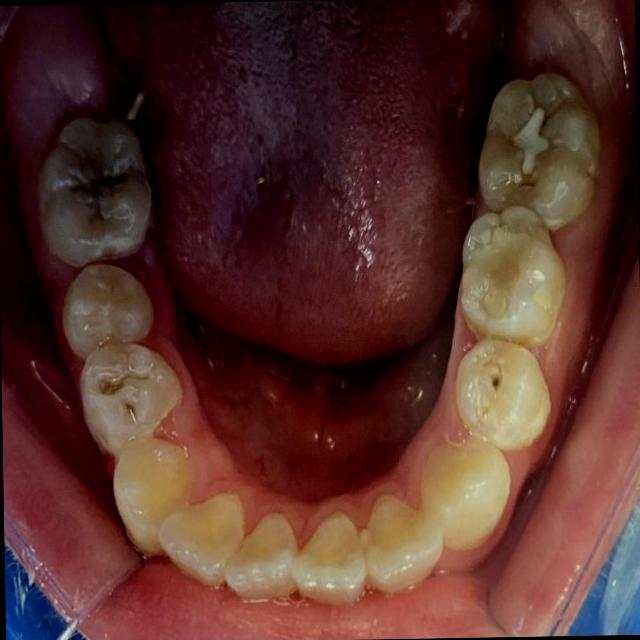caries: (36, 115, 155, 263), (74, 341, 186, 444)
